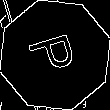P_E: (26, 30, 84, 80)
